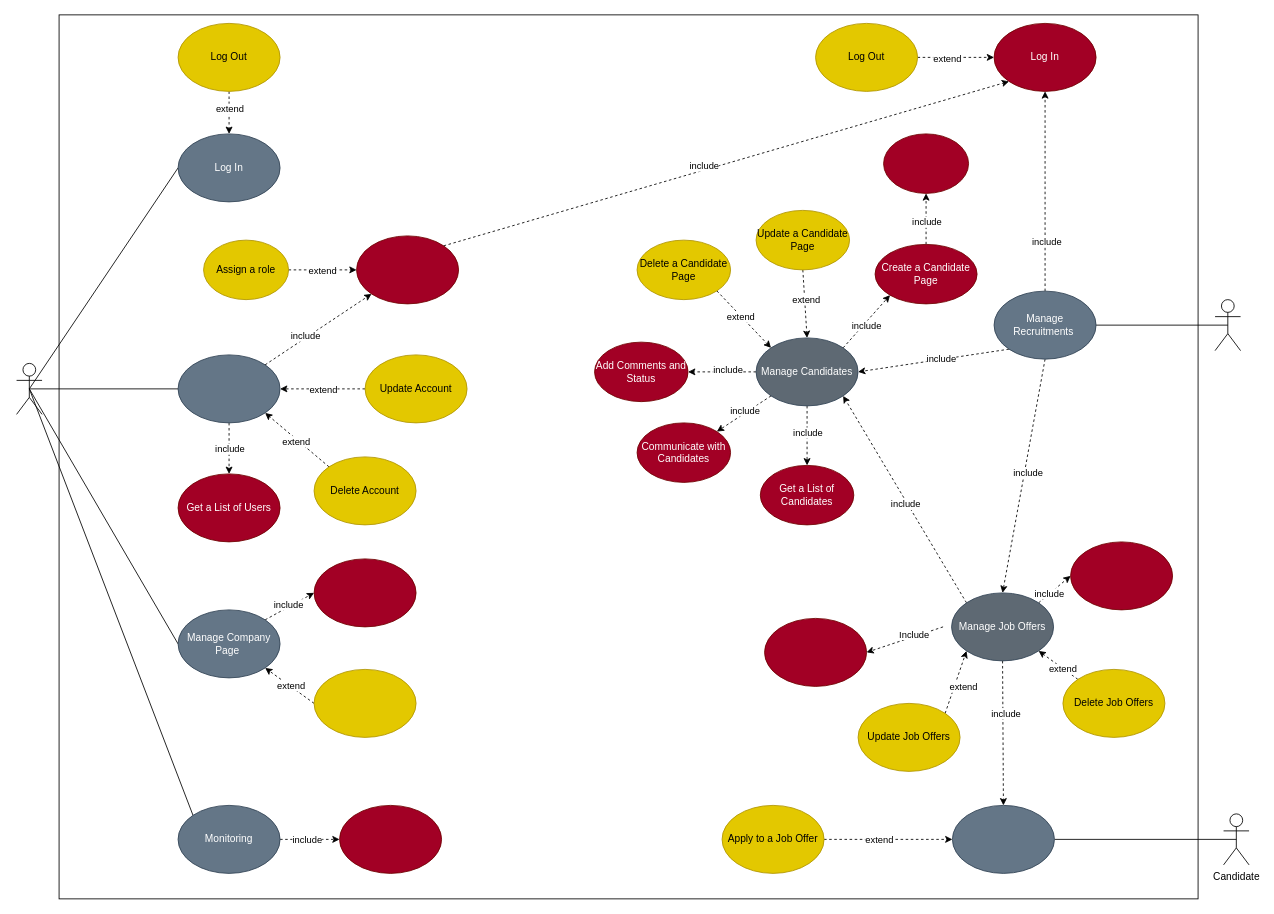
Some shapes in this 1274 by 914 pixel diagram are drawn without their labels. Each missing label, with the centre of its shape:
Add Resume: pixel 926 163
Admin: pixel 29 388
Create Company Page: pixel 364 592
Create Job Offers: pixel 815 652
Create Recruiter Account: pixel 407 269
Get a List of Job Offers: pixel 1121 575
Get Recruiting Metrics: pixel 390 839
Manage Account: pixel 228 388
Recruiter: pixel 1227 325
Update Company Page: pixel 364 703
View Job Offers: pixel 1003 839
